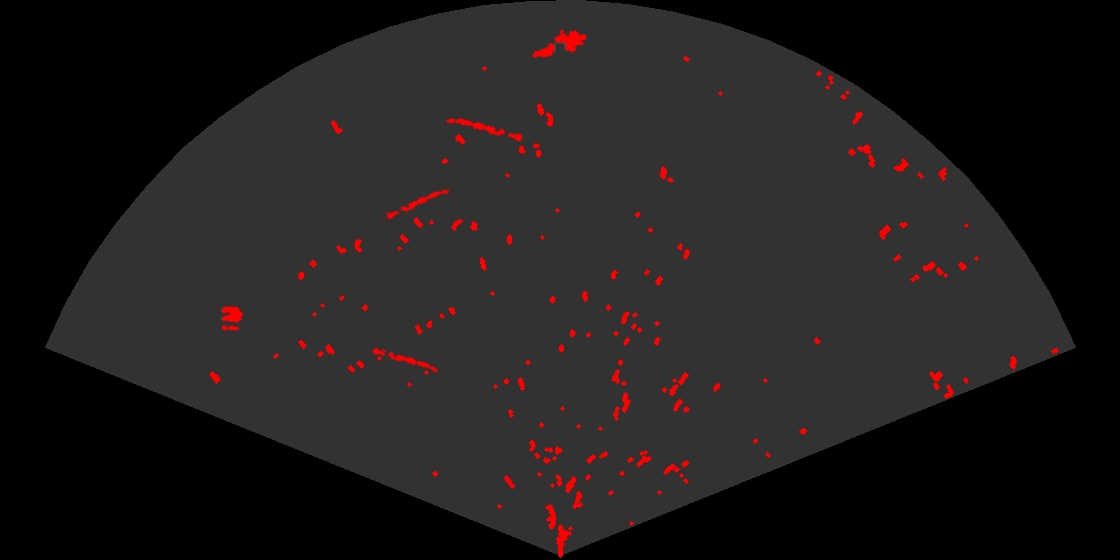ball: (219, 305, 245, 332)
chain: (380, 188, 452, 223), (444, 117, 527, 143), (370, 346, 440, 374)
frogman: (531, 27, 586, 59)
